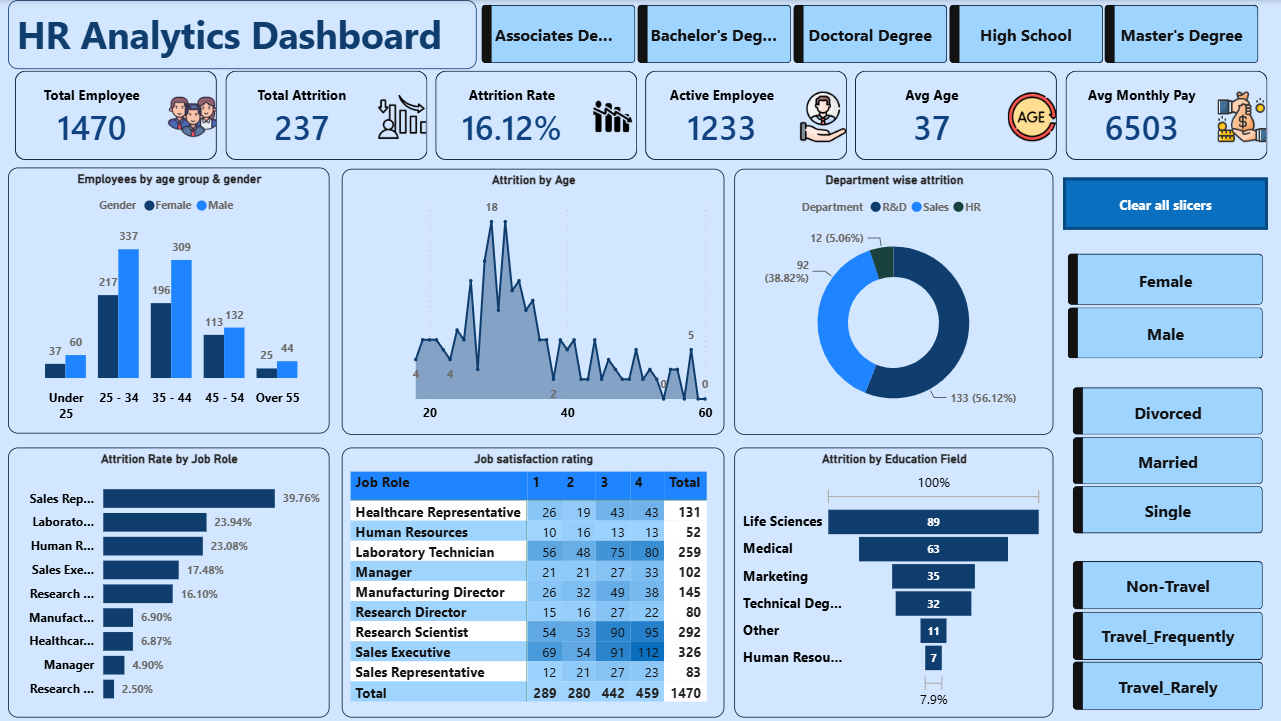

Layout of this report page (visuals, bound fields, positions):
{"tool":"powerbi","page":{"name":"Dashboard","canvas":[1280,720],"ordinal":0},"visuals":[{"type":"cardVisual","fields":{"Data":["HR data.Total Employee","HR data.Total Attrition","HR data.Attrition Rate","HR data.Active Employee","Avg(HR data.Age)","Avg(HR data.Monthly Income)"]},"box":[0,53.5,1280,123.2],"z":0},{"type":"clusteredColumnChart","title":"Employees by age group & gender","fields":{"Category":["HR data.Age Group"],"Y":["HR data.Total Employee"],"Series":["HR data.Gender"]},"box":[10,166.7,319.7,265],"z":1000},{"type":"areaChart","title":"Attrition by Age","fields":{"Category":["HR data.Age"],"Y":["HR data.Total Attrition"]},"box":[342.1,167.9,380.7,265],"z":2000},{"type":"donutChart","title":"Department wise attrition","fields":{"Category":["HR data.Department"],"Y":["HR data.Total Attrition"]},"box":[732.7,167.9,317.2,265],"z":3000},{"type":"clusteredBarChart","fields":{"Category":["HR data.Job Role"],"Y":["HR data.Attrition Rate"]},"box":[10,445.3,319.7,268.7],"z":4000},{"type":"pivotTable","title":"Job satisfaction rating","fields":{"Rows":["HR data.Job Role"],"Values":["HR data.Total Employee"],"Columns":["HR data.Job Satisfaction"]},"box":[342.1,445.3,380.7,268.7],"z":5000},{"type":"funnel","title":"Attrition by Education Field","fields":{"Category":["HR data.Education Field"],"Y":["HR data.Total Attrition"]},"box":[732.7,445.3,317.2,268.7],"z":6000},{"type":"advancedSlicerVisual","fields":{"Values":["HR data.Gender"]},"box":[1059.9,247.5,204,114.4],"z":7000},{"type":"advancedSlicerVisual","fields":{"Values":["HR data.Marital Status"]},"box":[1064.8,380.7,199,155.5],"z":8000},{"type":"advancedSlicerVisual","fields":{"Values":["HR data.Business Travel"]},"box":[1064.8,553.6,199,160.5],"z":9000},{"type":"advancedSlicerVisual","fields":{"Values":["HR data.Education"]},"box":[476.4,0,787.4,68.4],"z":10000},{"type":"actionButton","box":[1059.9,176.6,204,52.2],"z":11000},{"type":"textbox","box":[10,0,466.5,68.4],"z":12000}]}

Visuals, with their boxes in screenshot pixels (x1, y1, x2, y2), scaled from the page's 1280x720 canvas onto the 1281x721 screenshot:
cardVisual - HR data.Total Employee x HR data.Total Attrition: detection(0, 54, 1280, 177)
"Employees by age group & gender" clusteredColumnChart: detection(10, 167, 330, 432)
"Attrition by Age" areaChart: detection(342, 168, 723, 434)
"Department wise attrition" donutChart: detection(733, 168, 1051, 434)
clusteredBarChart - HR data.Job Role x HR data.Attrition Rate: detection(10, 446, 330, 715)
"Job satisfaction rating" pivotTable: detection(342, 446, 723, 715)
"Attrition by Education Field" funnel: detection(733, 446, 1051, 715)
advancedSlicerVisual - HR data.Gender: detection(1061, 248, 1265, 362)
advancedSlicerVisual - HR data.Marital Status: detection(1066, 381, 1265, 537)
advancedSlicerVisual - HR data.Business Travel: detection(1066, 554, 1265, 715)
advancedSlicerVisual - HR data.Education: detection(477, 0, 1265, 68)
actionButton: detection(1061, 177, 1265, 229)
textbox: detection(10, 0, 477, 68)
